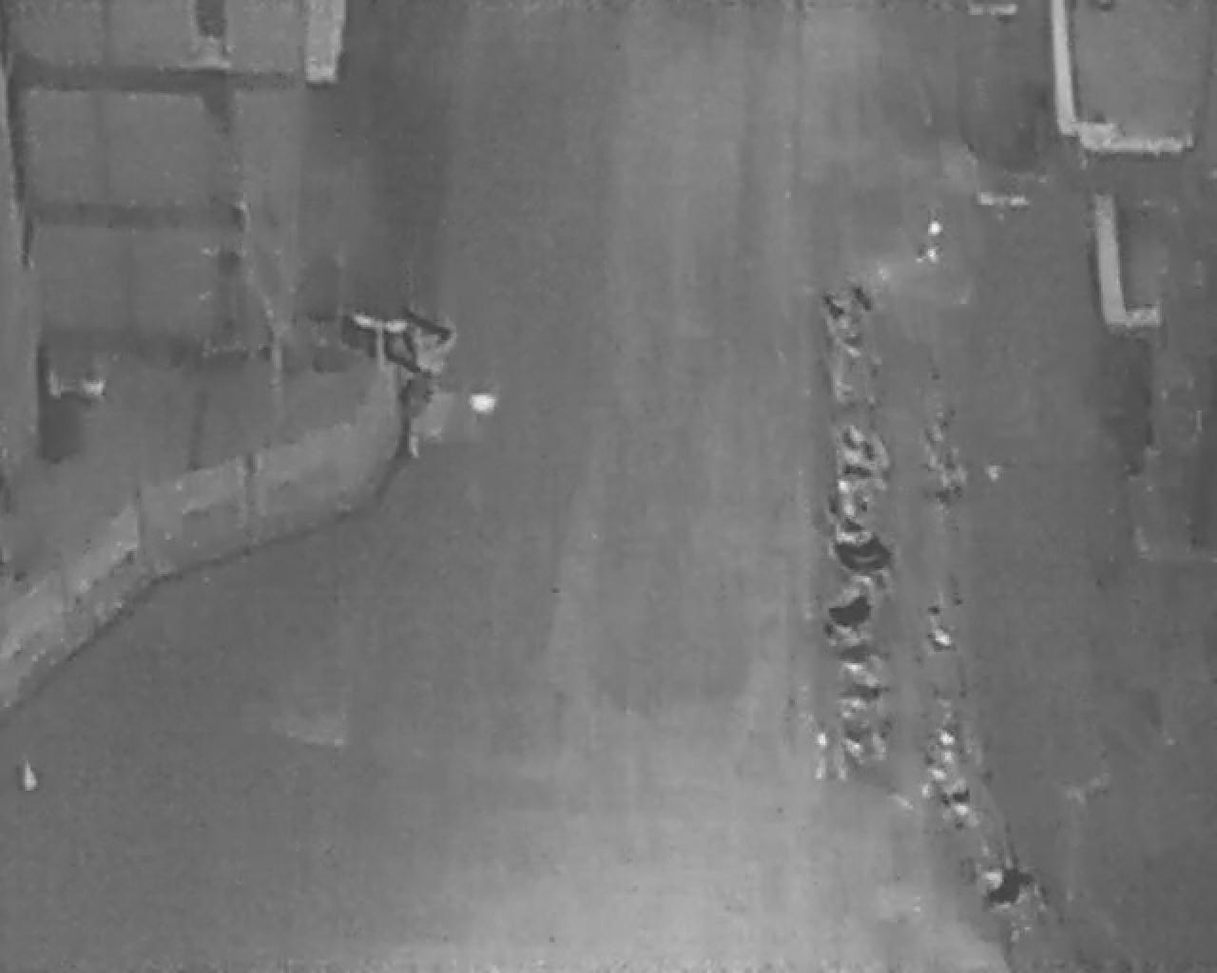person: (914, 214, 952, 273)
